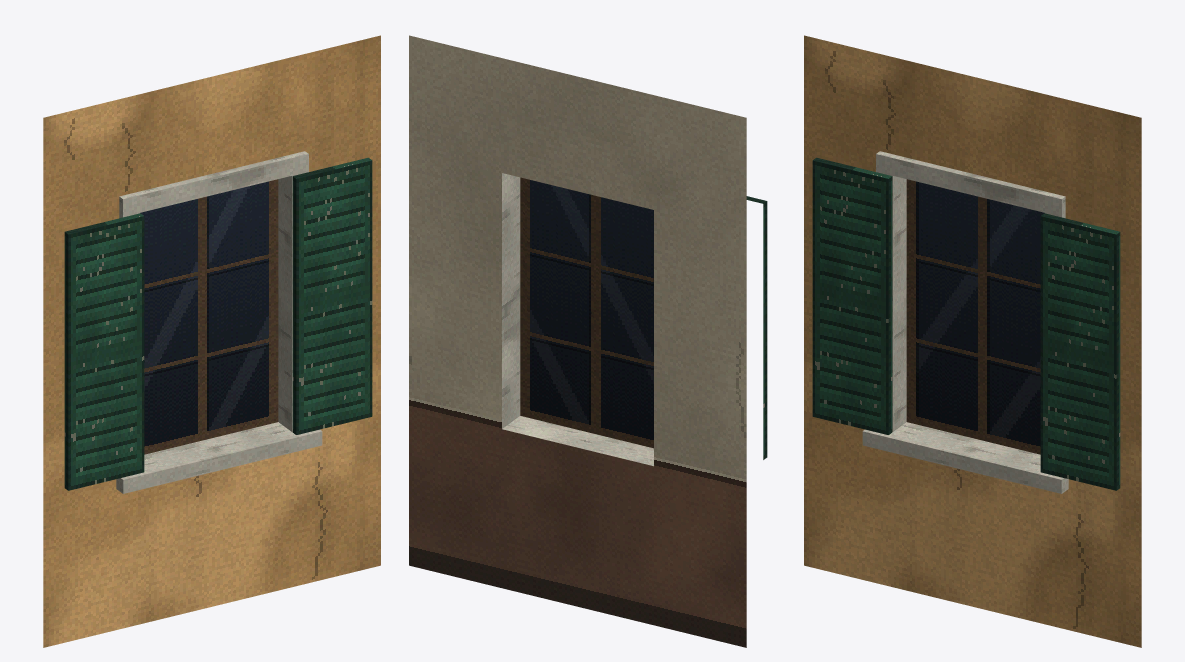
Rendered from ext_window_rect.gltf.
The picture shows the model from 3 angles, left to right: view 1: azimuth 30°, elevation 25°; view 2: azimuth 150°, elevation 25°; view 3: azimuth 330°, elevation 25°; orthographic projection.
Visible parts, largest first — view 1: ext_window_rect; view 2: ext_window_rect; view 3: ext_window_rect.
Boxes of the visible parts, left/top/right/bottom form: ext_window_rect: left=43, top=35, right=380, bottom=647; ext_window_rect: left=409, top=35, right=767, bottom=647; ext_window_rect: left=804, top=35, right=1141, bottom=647.
Size of what is drawn, in the model's own units: 2 by 3 by 0.41.
Materials: 5 (5 with a texture image).
